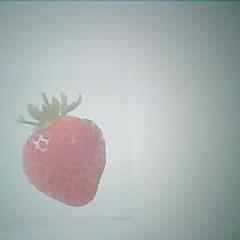straw-ripe: (22, 116, 106, 207)
